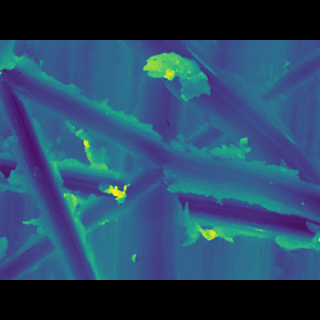Loch: (0, 87, 318, 198), (112, 70, 319, 176), (0, 100, 101, 249), (172, 184, 319, 224)
